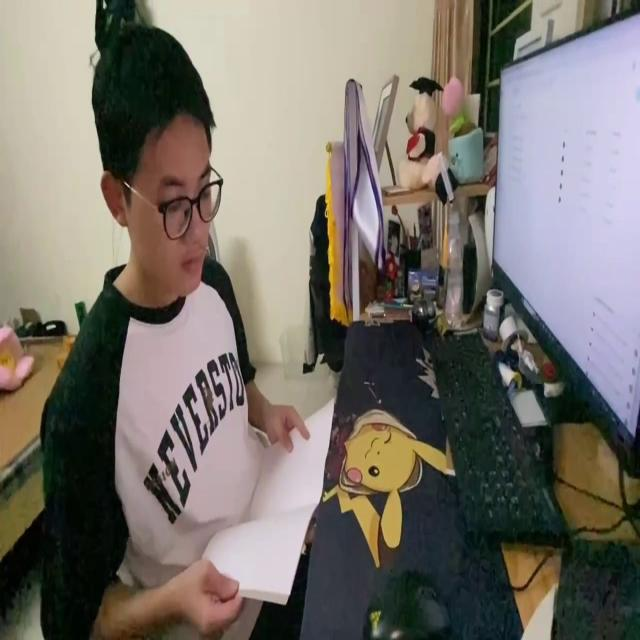book: (199, 398, 340, 606)
laptop: (490, 0, 640, 477)
student: (38, 19, 309, 640)
